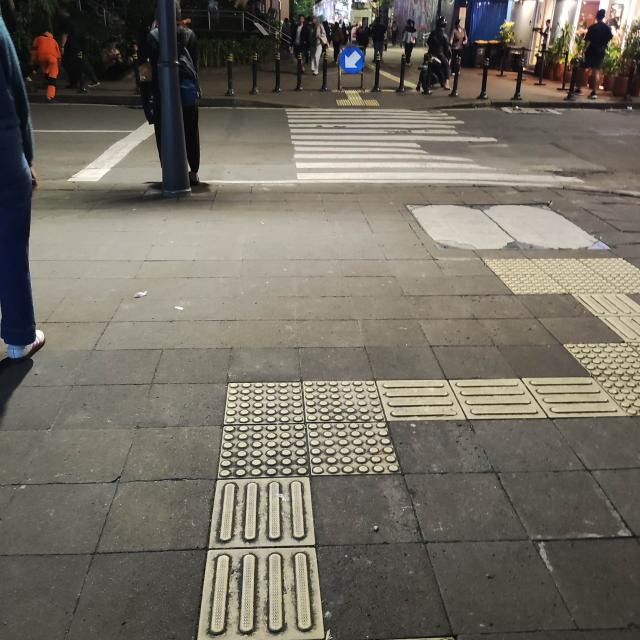kanan: (168, 343, 546, 518)
